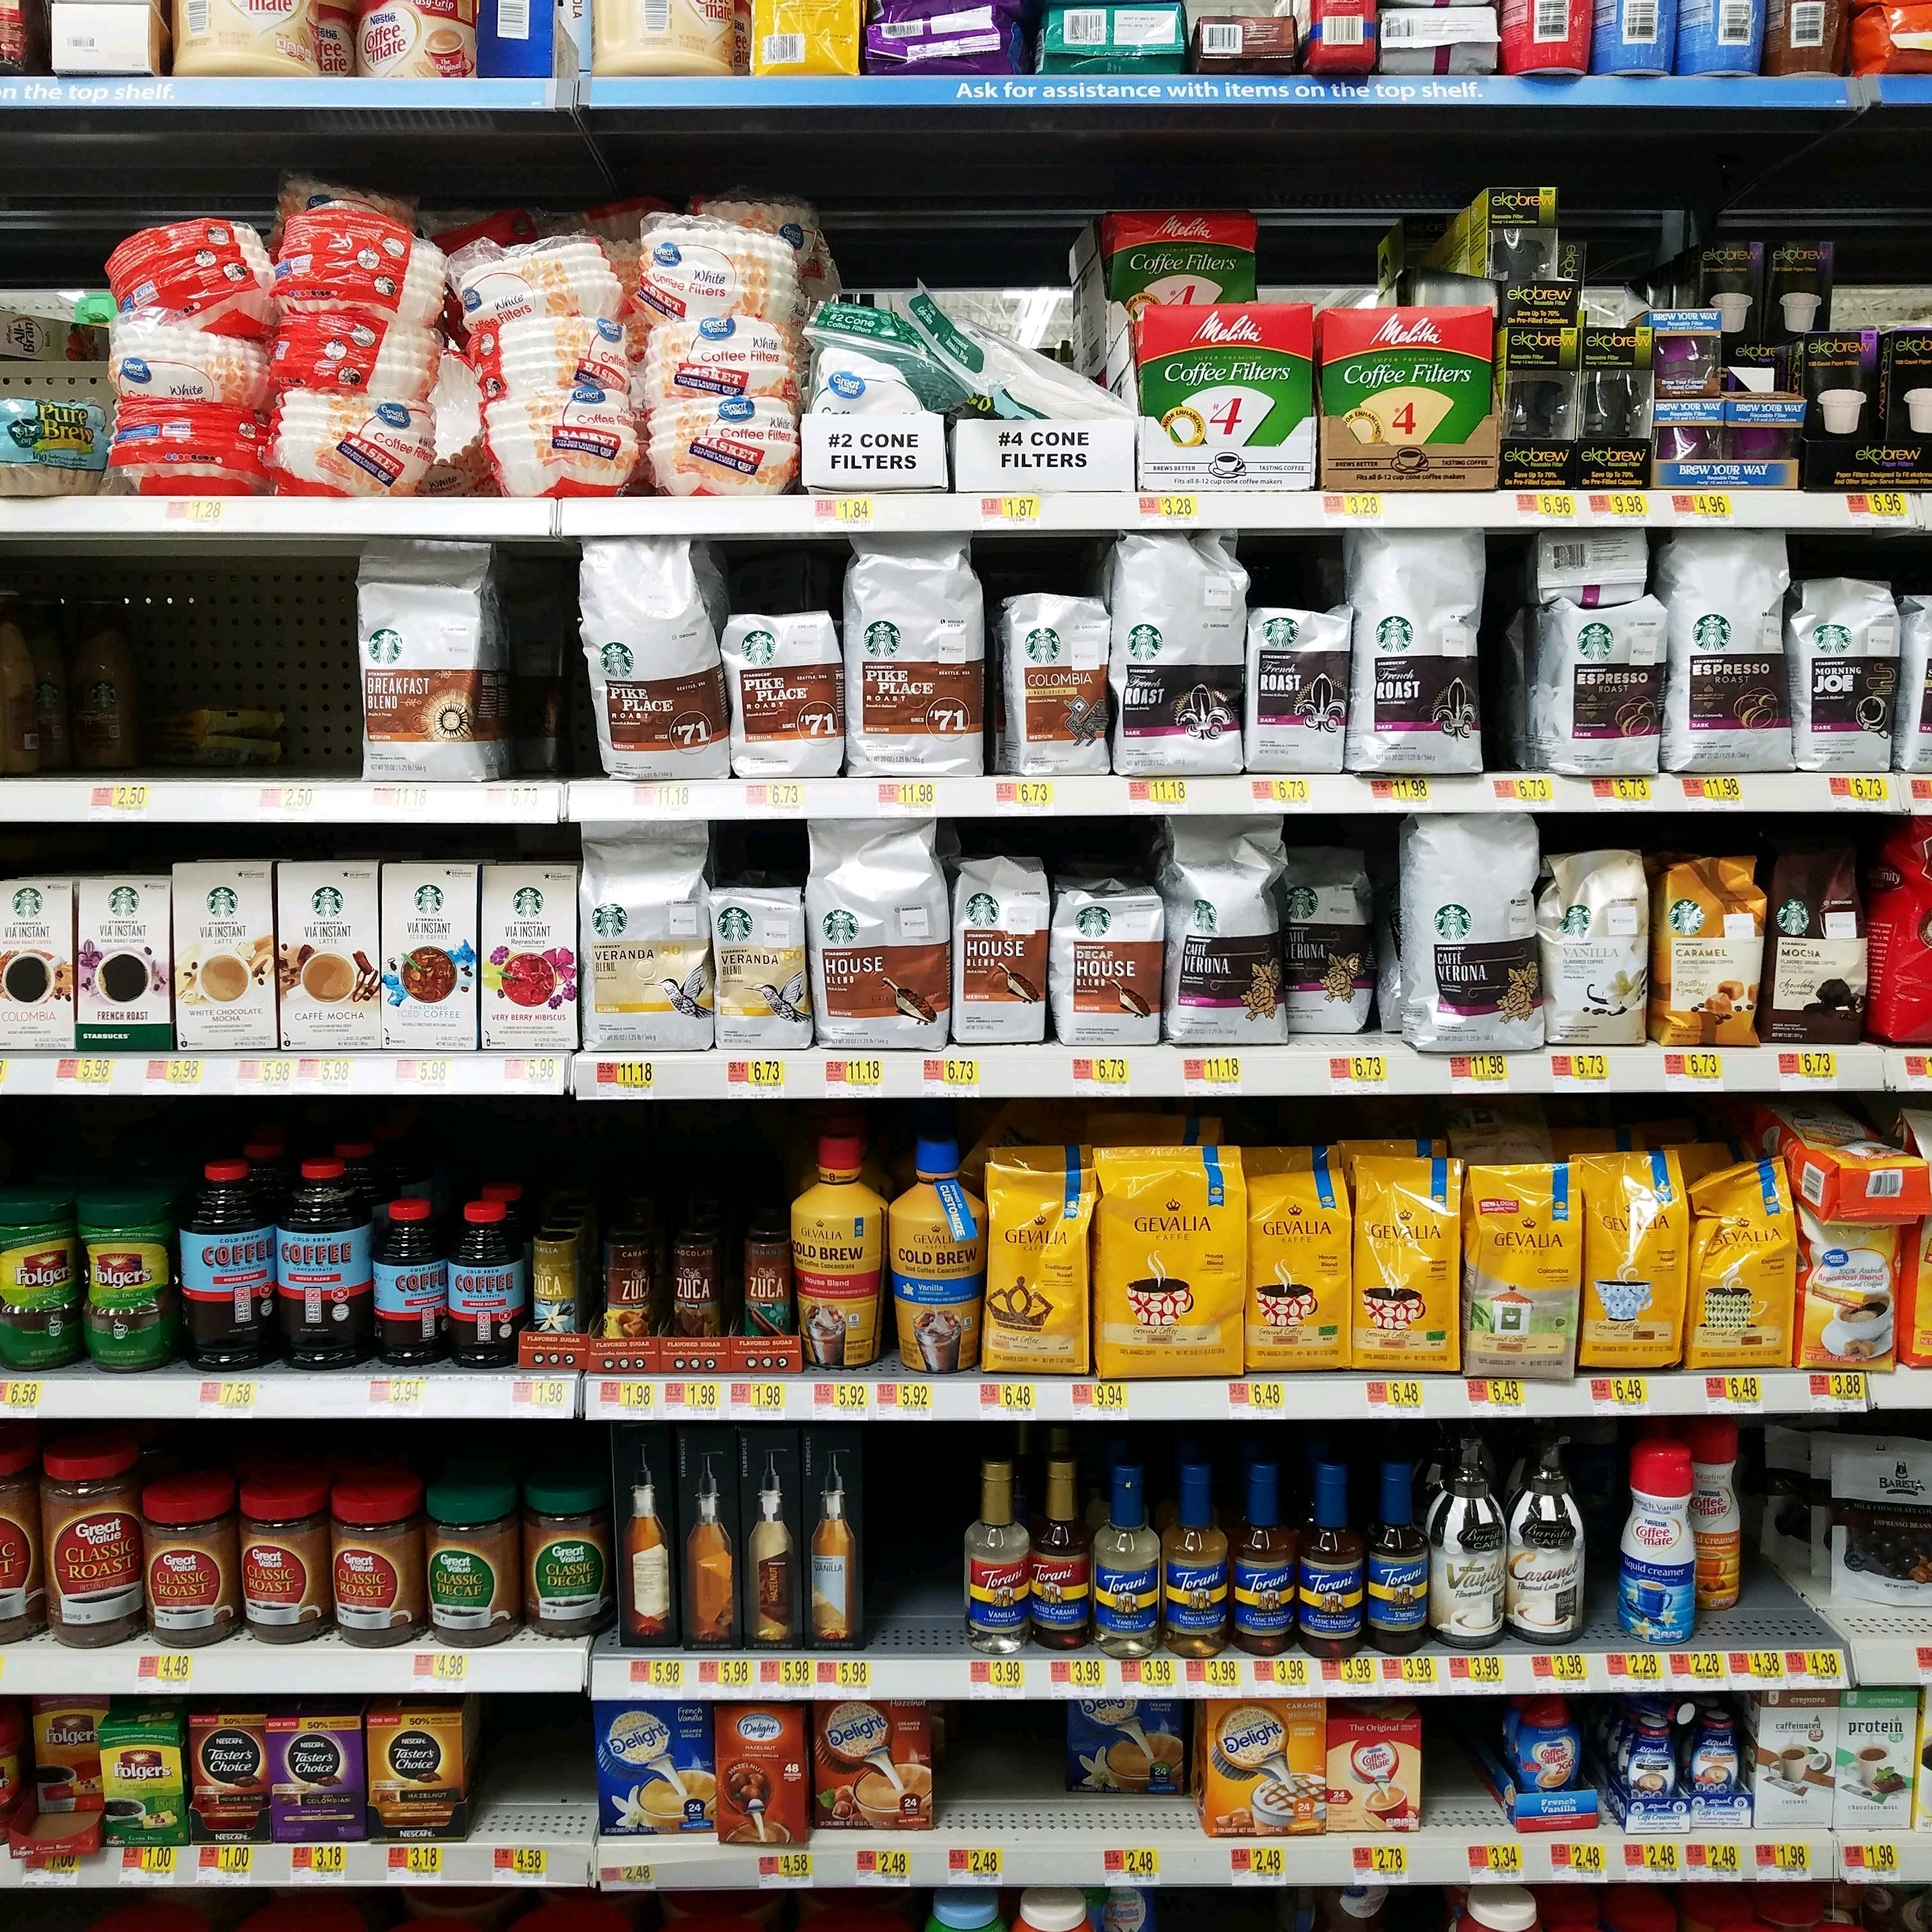Misplacement: (1067, 1700, 1187, 1844)
Out-of-stock: (869, 1426, 959, 1660)
